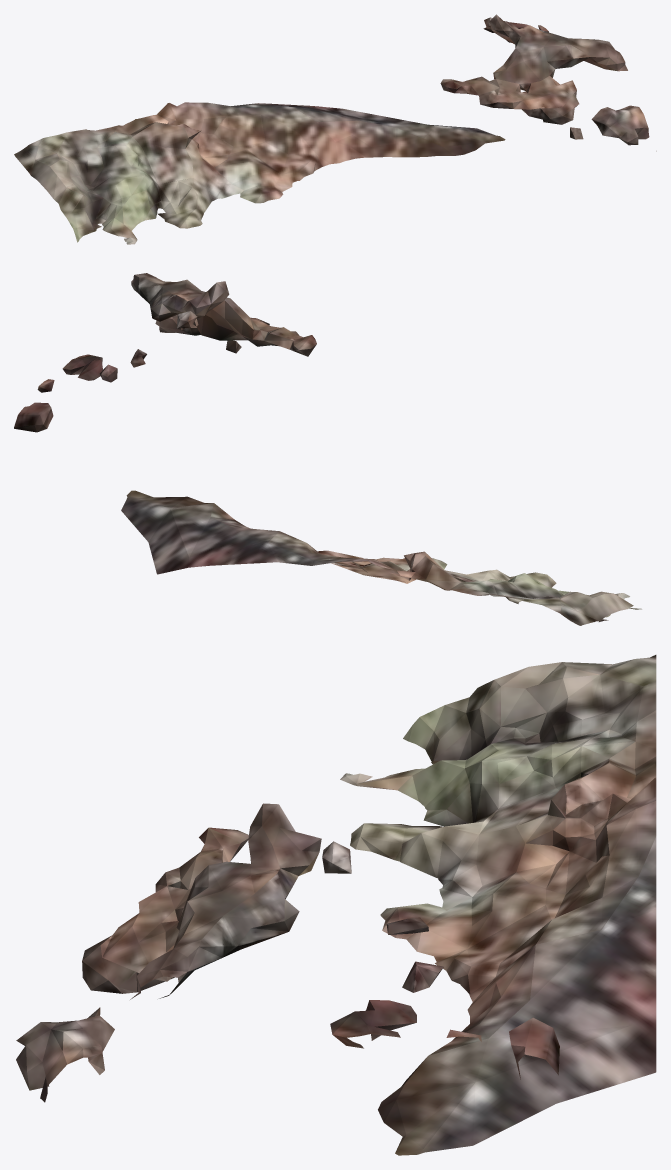
3 renders of one model, top to bottom at view 1: azimuth 30°, elevation 25°; view 2: azimuth 150°, elevation 25°; view 3: azimuth 270°, elevation 25°, orthographic. The views are drawn at different scales.
Bounding box in the file's own units: 1.67 × 0.5194 × 0.9648.
1 material, 1 textured.
